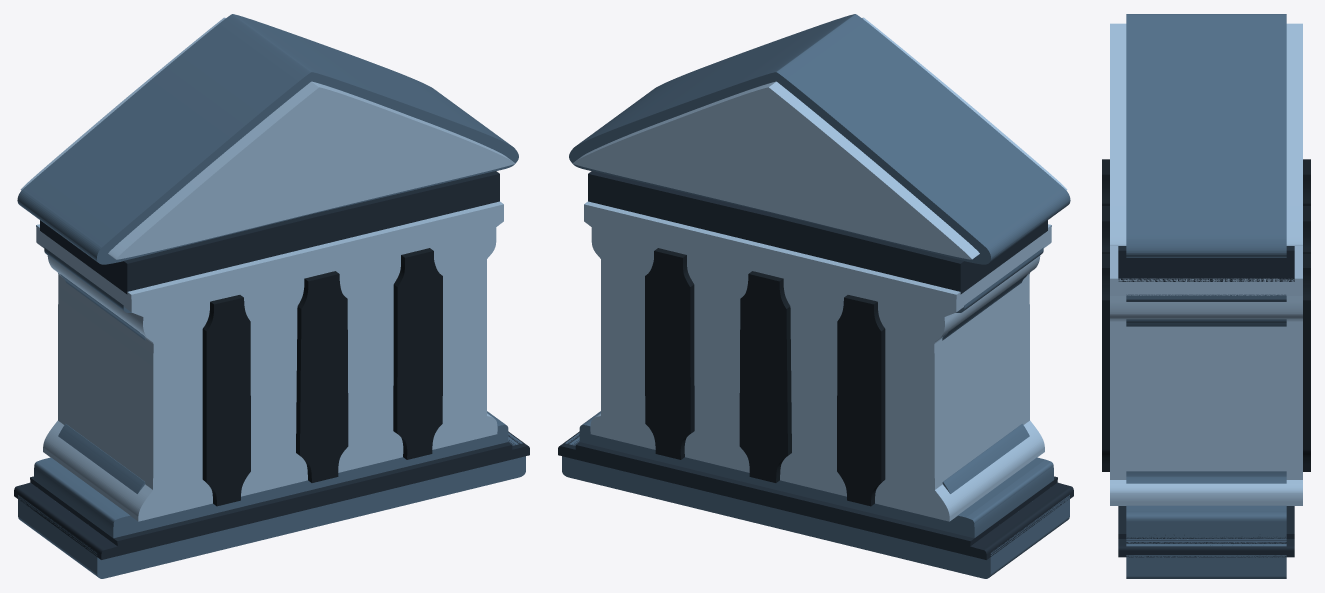
3 renders of one model, left to right at view 1: azimuth 30°, elevation 25°; view 2: azimuth 150°, elevation 25°; view 3: azimuth 270°, elevation 25°, orthographic.
Parts seen in each view (by area): view 1: U+1F3DB_layer02_obj00, U+1F3DB_layer00_obj06, U+1F3DB_layer02_obj01, U+1F3DB_layer00_obj02, U+1F3DB_layer01_obj01, U+1F3DB_layer01_obj00, U+1F3DB_layer03_obj00, U+1F3DB_layer03_obj02, U+1F3DB_layer03_obj01, U+1F3DB_layer00_obj05; view 2: U+1F3DB_layer02_obj00, U+1F3DB_layer00_obj06, U+1F3DB_layer02_obj01, U+1F3DB_layer00_obj02, U+1F3DB_layer01_obj01, U+1F3DB_layer01_obj00, U+1F3DB_layer03_obj00, U+1F3DB_layer03_obj02, U+1F3DB_layer03_obj01, U+1F3DB_layer00_obj05; view 3: U+1F3DB_layer02_obj00, U+1F3DB_layer00_obj06, U+1F3DB_layer00_obj02, U+1F3DB_layer02_obj01, U+1F3DB_layer01_obj01, U+1F3DB_layer01_obj00, U+1F3DB_layer03_obj02, U+1F3DB_layer00_obj05, U+1F3DB_layer00_obj12, U+1F3DB_layer00_obj04, U+1F3DB_layer03_obj00, U+1F3DB_layer03_obj01.
Part boxes in pixels (bbox=[...]): U+1F3DB_layer02_obj00: bbox=[36, 201, 503, 521]; U+1F3DB_layer00_obj06: bbox=[17, 14, 518, 264]; U+1F3DB_layer02_obj01: bbox=[20, 17, 515, 259]; U+1F3DB_layer00_obj02: bbox=[18, 411, 525, 578]; U+1F3DB_layer01_obj01: bbox=[40, 171, 499, 294]; U+1F3DB_layer01_obj00: bbox=[14, 431, 529, 559]; U+1F3DB_layer03_obj00: bbox=[296, 271, 348, 482]; U+1F3DB_layer03_obj02: bbox=[393, 248, 442, 459]; U+1F3DB_layer03_obj01: bbox=[202, 295, 250, 506]; U+1F3DB_layer00_obj05: bbox=[58, 424, 145, 493]; U+1F3DB_layer02_obj00: bbox=[584, 201, 1051, 521]; U+1F3DB_layer00_obj06: bbox=[569, 14, 1070, 264]; U+1F3DB_layer02_obj01: bbox=[572, 17, 1067, 259]; U+1F3DB_layer00_obj02: bbox=[562, 411, 1069, 578]; U+1F3DB_layer01_obj01: bbox=[588, 171, 1047, 294]; U+1F3DB_layer01_obj00: bbox=[558, 431, 1073, 559]; U+1F3DB_layer03_obj00: bbox=[739, 271, 791, 482]; U+1F3DB_layer03_obj02: bbox=[645, 248, 694, 459]; U+1F3DB_layer03_obj01: bbox=[837, 295, 885, 506]; U+1F3DB_layer00_obj05: bbox=[942, 424, 1029, 493]; U+1F3DB_layer02_obj00: bbox=[1110, 246, 1302, 505]; U+1F3DB_layer00_obj06: bbox=[1126, 14, 1286, 257]; U+1F3DB_layer00_obj02: bbox=[1126, 505, 1286, 578]; U+1F3DB_layer02_obj01: bbox=[1110, 23, 1302, 245]; U+1F3DB_layer01_obj01: bbox=[1118, 246, 1294, 281]; U+1F3DB_layer01_obj00: bbox=[1118, 506, 1294, 557]; U+1F3DB_layer03_obj02: bbox=[1102, 253, 1310, 471]; U+1F3DB_layer00_obj05: bbox=[1126, 471, 1286, 483]; U+1F3DB_layer00_obj12: bbox=[1126, 319, 1286, 326]; U+1F3DB_layer00_obj04: bbox=[1126, 294, 1286, 301]; U+1F3DB_layer03_obj00: bbox=[1102, 206, 1310, 253]; U+1F3DB_layer03_obj01: bbox=[1102, 159, 1310, 205].
Bounding box in the file's own units: 0.312 × 0.3169 × 0.13.
